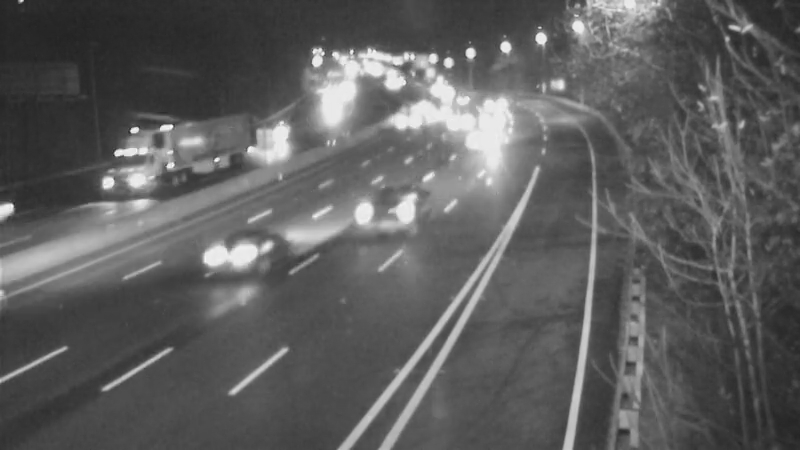vehicle: (360, 167, 440, 247), (192, 218, 272, 298), (92, 136, 172, 216), (1, 164, 63, 244), (408, 63, 458, 113), (434, 75, 484, 125), (397, 80, 447, 130), (464, 79, 514, 129), (413, 90, 463, 140), (462, 97, 512, 147), (436, 95, 486, 145), (381, 95, 431, 145), (457, 115, 507, 165), (258, 108, 308, 158)
